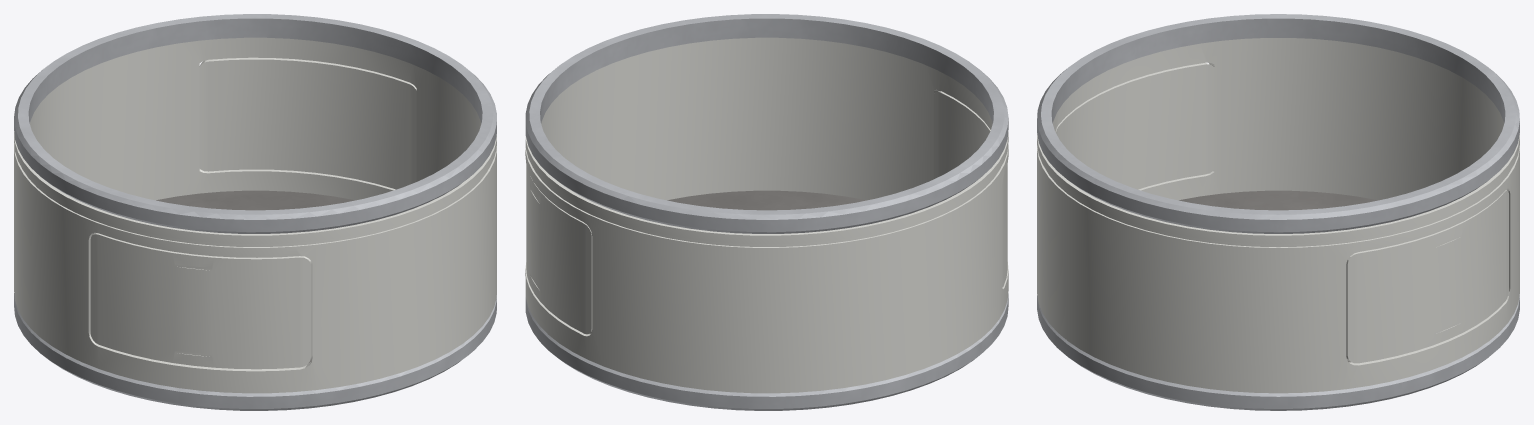
File: ax_struct_12_service_bay_m.glb
3 views of the same model, side by side, from view 1: azimuth 30°, elevation 25°; view 2: azimuth 150°, elevation 25°; view 3: azimuth 270°, elevation 25° (orthographic).
Visible parts, largest first — view 1: bay_barrel, interface_rings, door_2, door_1, slot_deck; view 2: bay_barrel, interface_rings, door_1, door_2, slot_deck; view 3: bay_barrel, interface_rings, door_1, door_2, slot_deck.
Part boxes in pixels (x1=…): bay_barrel: x1=14, y1=37, x2=496, y2=393; interface_rings: x1=14, y1=14, x2=496, y2=410; door_2: x1=90, y1=232, x2=312, y2=369; door_1: x1=199, y1=57, x2=416, y2=189; slot_deck: x1=156, y1=190, x2=354, y2=362; bay_barrel: x1=525, y1=37, x2=1008, y2=393; interface_rings: x1=525, y1=14, x2=1008, y2=410; door_1: x1=526, y1=165, x2=592, y2=334; door_2: x1=934, y1=91, x2=1007, y2=287; slot_deck: x1=667, y1=190, x2=866, y2=210; bay_barrel: x1=1037, y1=38, x2=1519, y2=393; interface_rings: x1=1037, y1=14, x2=1519, y2=410; door_1: x1=1346, y1=190, x2=1508, y2=363; door_2: x1=1055, y1=62, x2=1214, y2=189; slot_deck: x1=1179, y1=190, x2=1377, y2=362.
Size of the model in its own units: 2.5 by 1.12 by 2.5.
Materials: 3 (2 with a texture image).
